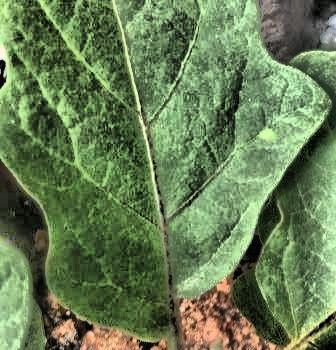HEALTHY: (1, 1, 336, 350)
